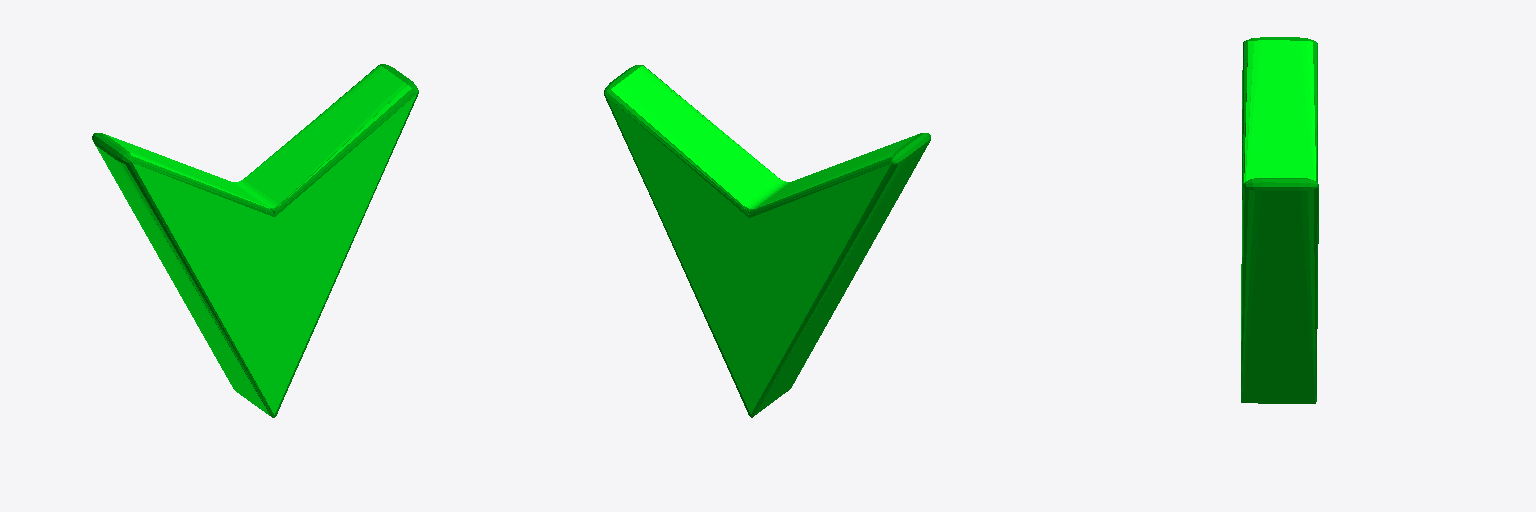
The model's file is arrow3.obj.
3 views of the same model, side by side, from view 1: azimuth 30°, elevation 25°; view 2: azimuth 150°, elevation 25°; view 3: azimuth 270°, elevation 25° (orthographic).
Parts seen in each view (by area): view 1: Object.1; view 2: Object.1; view 3: Object.1.
Part boxes in pixels (bbox=[...]): Object.1: bbox=[92, 64, 418, 417]; Object.1: bbox=[604, 65, 930, 417]; Object.1: bbox=[1241, 37, 1318, 403].
Bounding box in the file's own units: 1.38 × 1.32 × 0.3145.